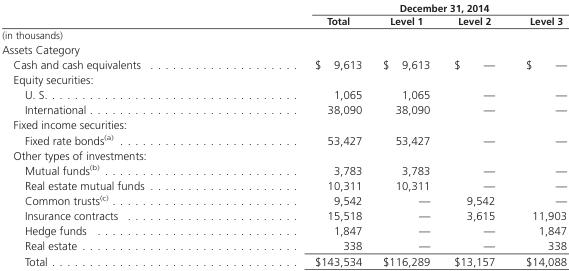table: (1, 1, 566, 268)
table column: (1, 1, 228, 268), (228, 1, 371, 268), (371, 1, 441, 268), (441, 1, 509, 268), (509, 1, 566, 268)
table column header: (1, 1, 566, 41)
table projected row header: (1, 41, 566, 56), (1, 71, 566, 86), (1, 147, 566, 162), (1, 117, 566, 131)
table row: (1, 14, 566, 41), (1, 86, 566, 102), (1, 131, 566, 147), (1, 207, 566, 223), (1, 41, 566, 56), (1, 56, 566, 71), (1, 71, 566, 86), (1, 102, 566, 117), (1, 147, 566, 162), (1, 162, 566, 177), (1, 177, 566, 192), (1, 192, 566, 207), (1, 223, 566, 238), (1, 238, 566, 253), (1, 253, 566, 268), (1, 117, 566, 131), (1, 1, 566, 14)
table spanning cell: (1, 1, 228, 41), (228, 1, 566, 14)
